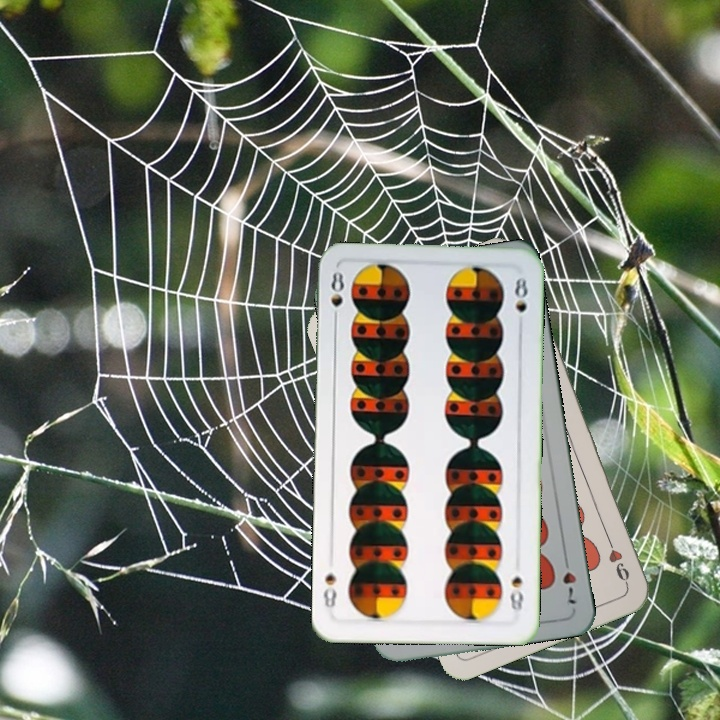H7: (558, 551, 579, 609)
H9: (602, 531, 632, 588)
S8: (324, 267, 347, 326), (505, 573, 526, 619)
